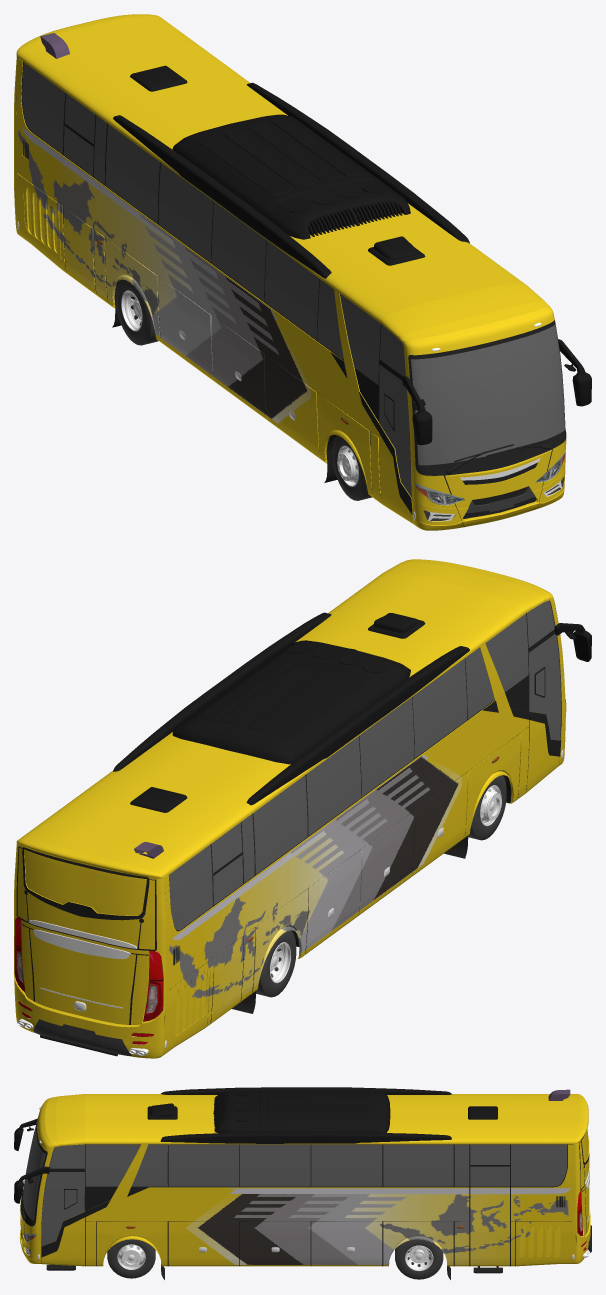
File: vietride_car.glb
3 renders of one model, top to bottom at view 1: azimuth 30°, elevation 25°; view 2: azimuth 150°, elevation 25°; view 3: azimuth 270°, elevation 25°, orthographic. The views are drawn at different scales.
Visible parts, largest first — view 1: bodi, kaca, ac, sayap, lis, ban, apion, pelek, hitam, krum_hitam, lampu_depan, krum; view 2: bodi, kaca, ac, sayap, lis, ban, krum, lampu_blkng, pelek, bokong_hitam, apion, slebor (+1 smaller); view 3: bodi, kaca, ac, lis, sayap, ban, pelek, apion, krum_hitam, tangga.
Boxes of the visible parts, bbox=[...] form: bodi: bbox=[14, 14, 566, 530]; kaca: bbox=[22, 62, 565, 497]; ac: bbox=[130, 65, 425, 265]; sayap: bbox=[113, 82, 469, 278]; lis: bbox=[16, 62, 566, 526]; ban: bbox=[116, 279, 372, 500]; apion: bbox=[402, 339, 591, 445]; pelek: bbox=[121, 290, 358, 486]; hitam: bbox=[462, 462, 537, 518]; krum_hitam: bbox=[331, 352, 412, 514]; lampu_depan: bbox=[414, 451, 565, 505]; krum: bbox=[428, 458, 564, 521]; bodi: bbox=[14, 559, 566, 1058]; kaca: bbox=[169, 600, 561, 930]; ac: bbox=[130, 613, 425, 812]; sayap: bbox=[113, 612, 469, 805]; lis: bbox=[16, 601, 566, 1024]; ban: bbox=[256, 775, 506, 997]; krum: bbox=[28, 920, 137, 1008]; lampu_blkng: bbox=[14, 917, 163, 1044]; pelek: bbox=[270, 785, 501, 983]; bokong_hitam: bbox=[33, 1019, 131, 1056]; apion: bbox=[554, 623, 591, 661]; slebor: bbox=[232, 775, 511, 1013]; bodi: bbox=[19, 1094, 590, 1266]; kaca: bbox=[23, 1121, 567, 1245]; ac: bbox=[147, 1090, 497, 1133]; lis: bbox=[20, 1118, 589, 1266]; sayap: bbox=[160, 1087, 451, 1143]; ban: bbox=[107, 1239, 443, 1279]; pelek: bbox=[117, 1244, 433, 1271]; apion: bbox=[14, 1118, 50, 1203]; krum_hitam: bbox=[41, 1187, 148, 1257]; tangga: bbox=[46, 1264, 502, 1273].
Size of the model in its own units: 2.88 by 3.59 by 12.22.
Materials: 8 (3 with a texture image).
